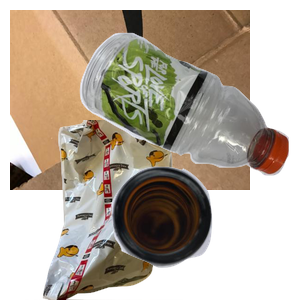cardboard: (10, 10, 250, 190)
glass: (109, 164, 300, 300)
plastic: (77, 30, 300, 198)
trash: (25, 120, 198, 300)
